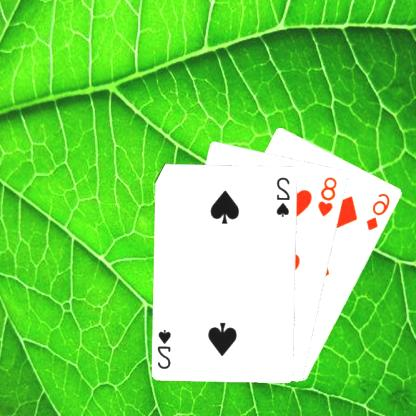2S: (275, 174, 294, 218), (157, 326, 174, 370)
6D: (366, 190, 394, 232)
8H: (317, 174, 341, 218)
